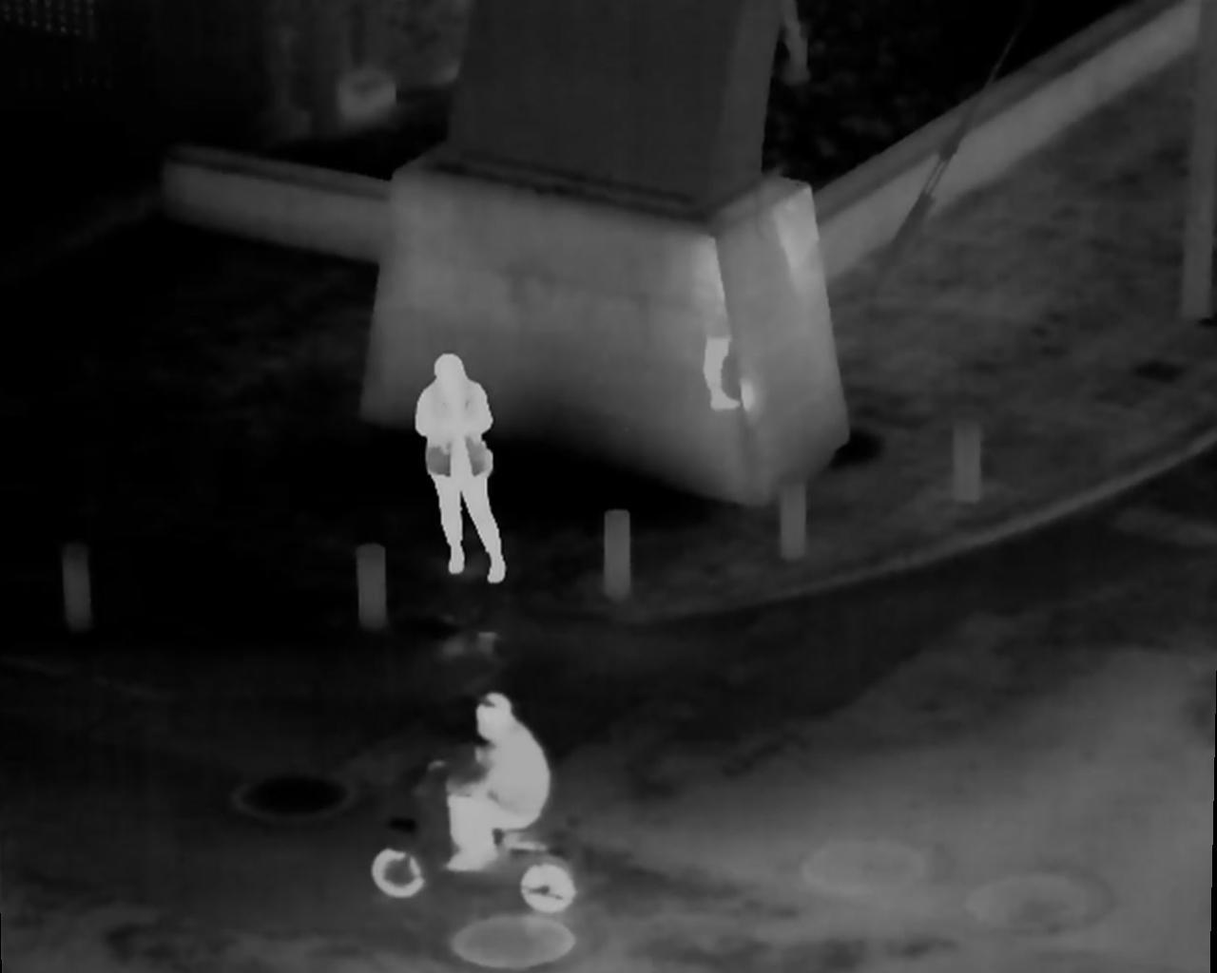person: (409, 349, 511, 577), (443, 695, 549, 886)
